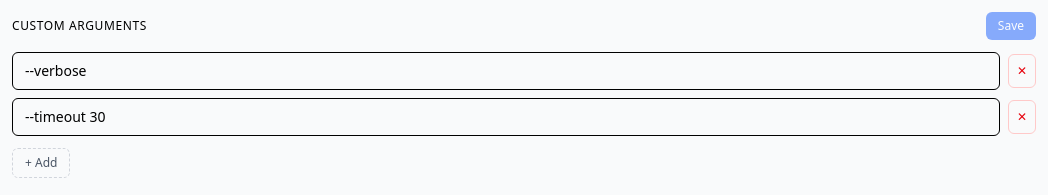
Test case: CustomArgsTab › Delete button removes row
This screenshot has width=1048, height=195.
Click the button named "delete argument" at (1022, 71), box [1008,54,1036,88]
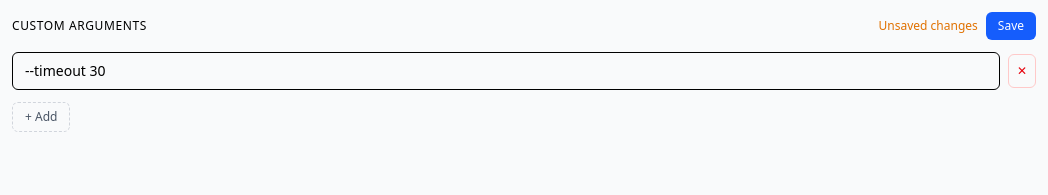
Expected: the number of fields is 1, [12,52,1000,90]
